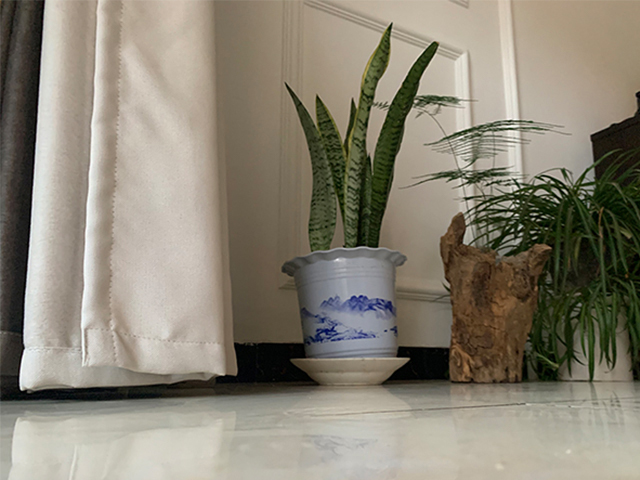curtain: (2, 2, 240, 397), (1, 1, 238, 395)
